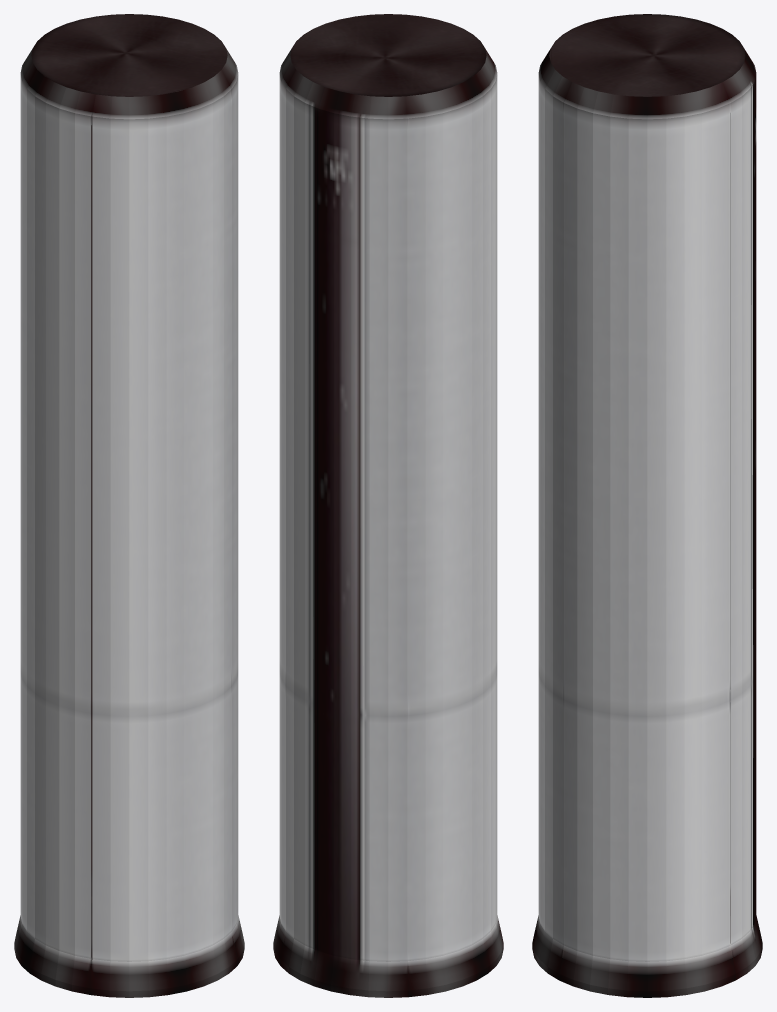
File: airconditioner2.obj
3 views of the same model, side by side, from view 1: azimuth 30°, elevation 25°; view 2: azimuth 150°, elevation 25°; view 3: azimuth 270°, elevation 25° (orthographic).
Visible parts, largest first — view 1: airconditioner2; view 2: airconditioner2; view 3: airconditioner2.
Boxes of the visible parts, left/top/right/bottom form: airconditioner2: left=14, top=14, right=244, bottom=997; airconditioner2: left=273, top=14, right=503, bottom=997; airconditioner2: left=532, top=14, right=762, bottom=997.
Bounding box in the file's own units: 42 × 180 × 42.
Materials: 1 (1 with a texture image).
